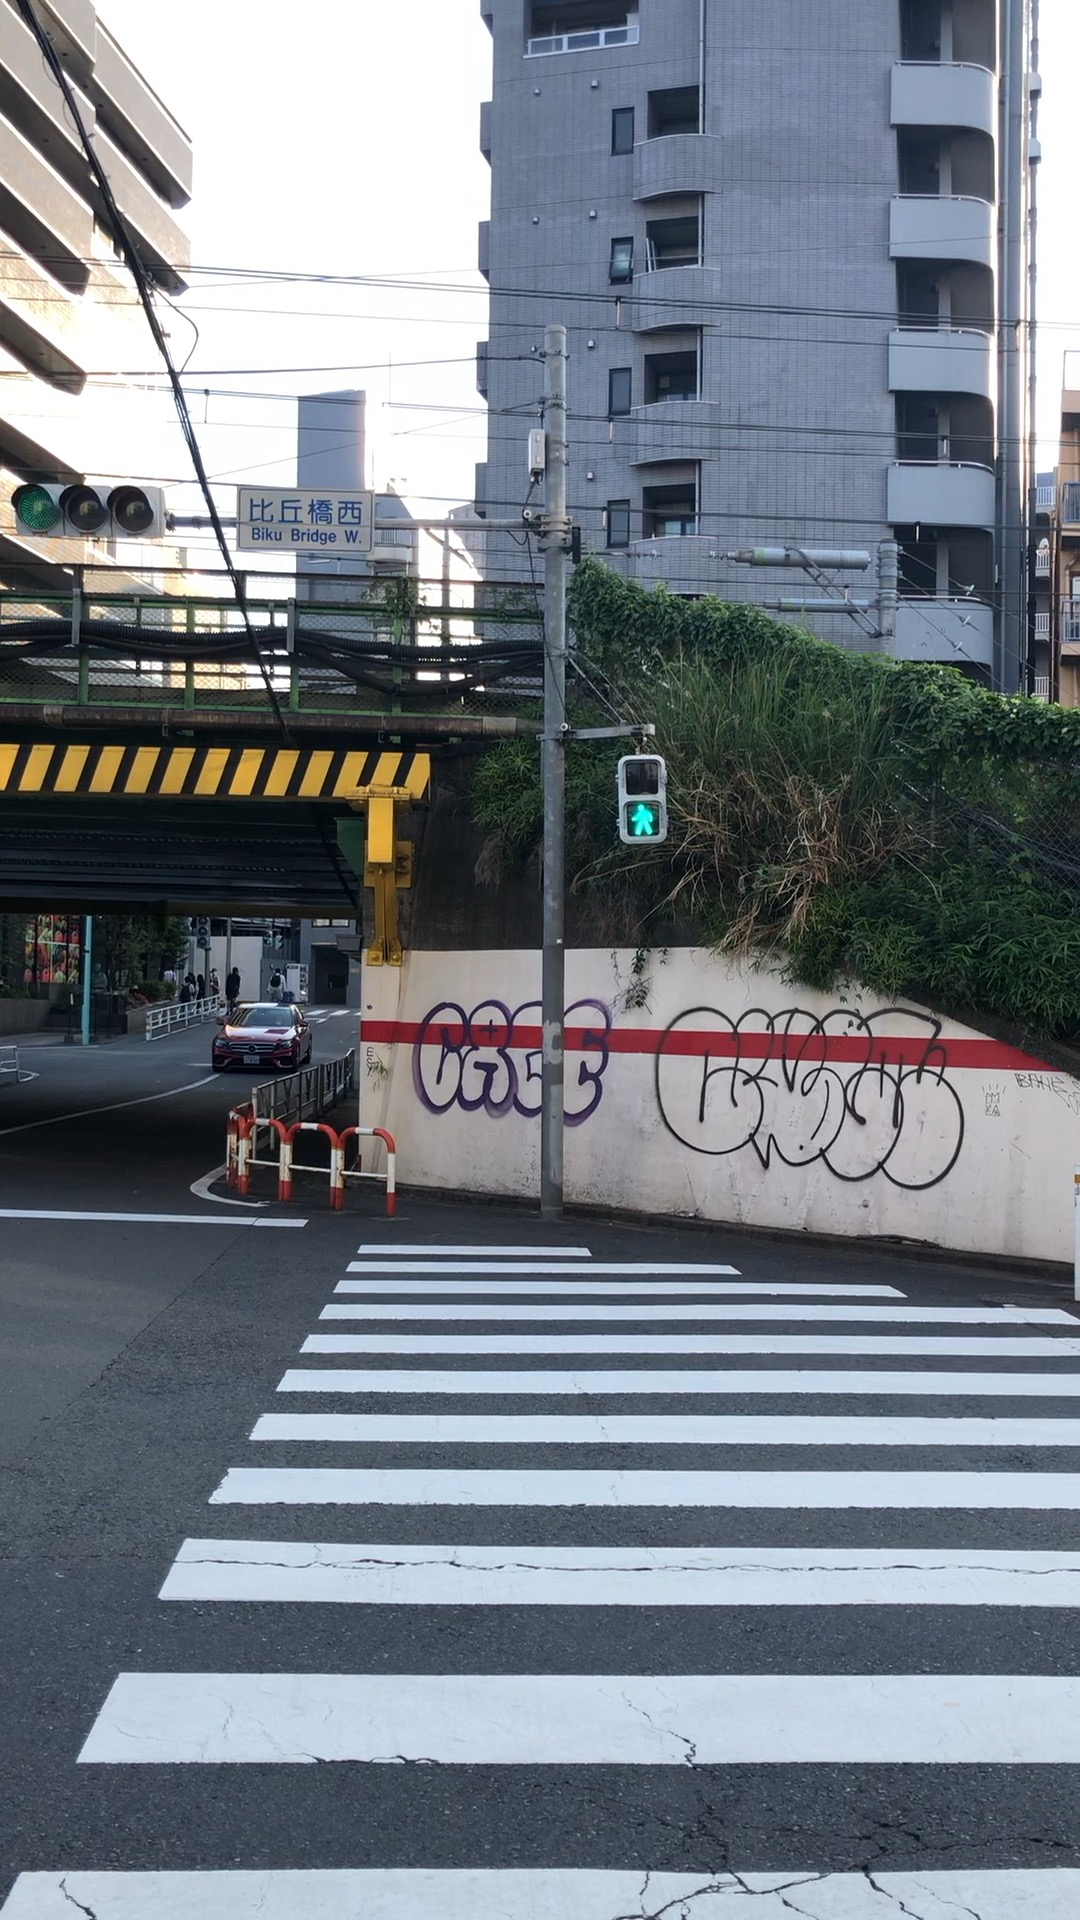green: (615, 754, 669, 844)
